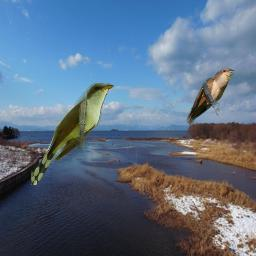Cuckoo: (31, 83, 114, 185), (185, 68, 234, 126)
